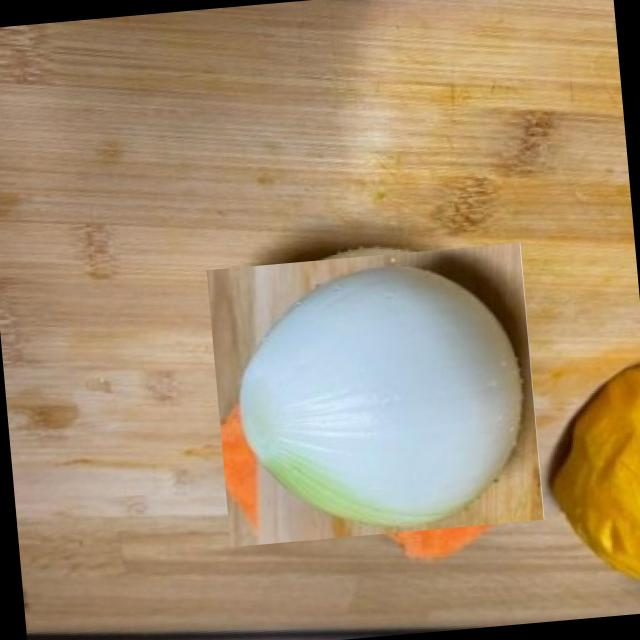Onion: (214, 233, 535, 554)
